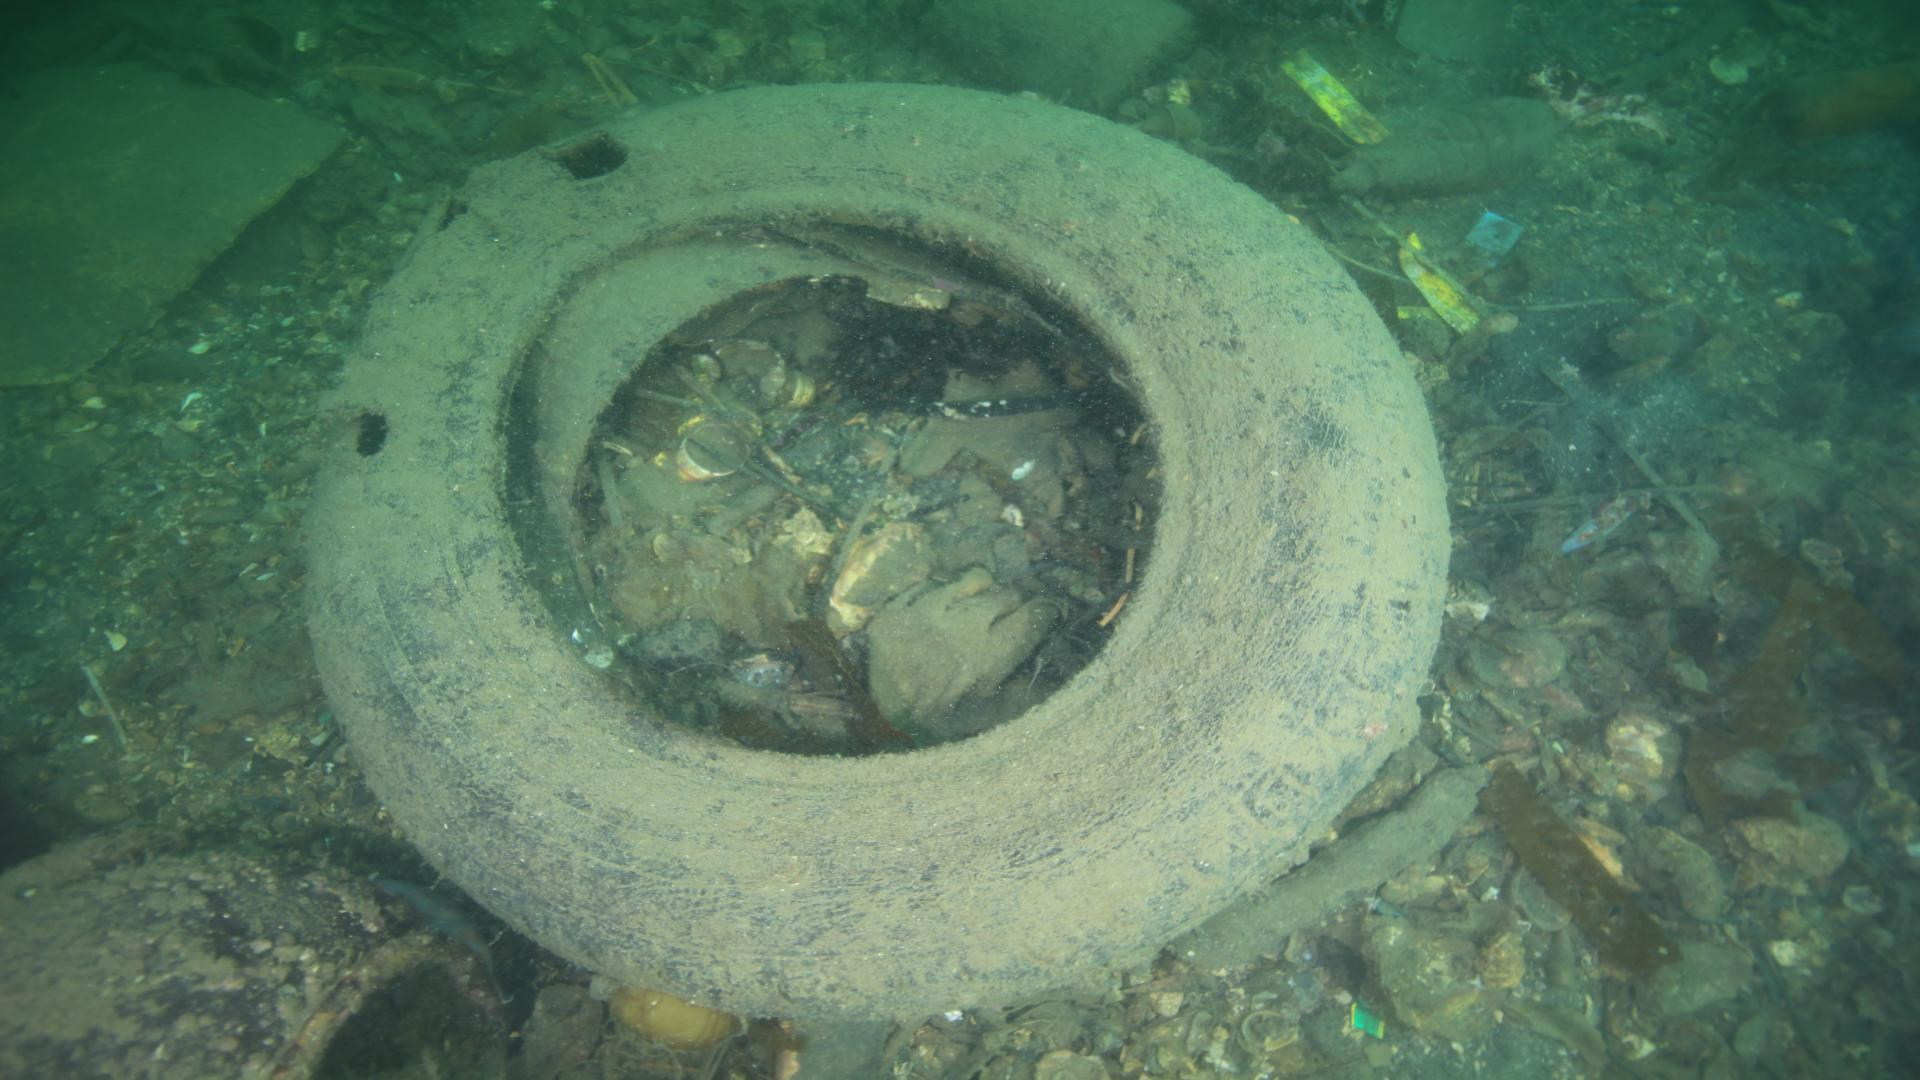tire: (305, 82, 1452, 1029)
